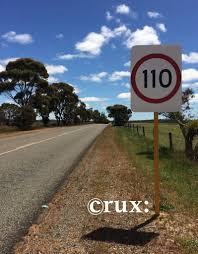Speed_limit_110km: (131, 53, 181, 103)
